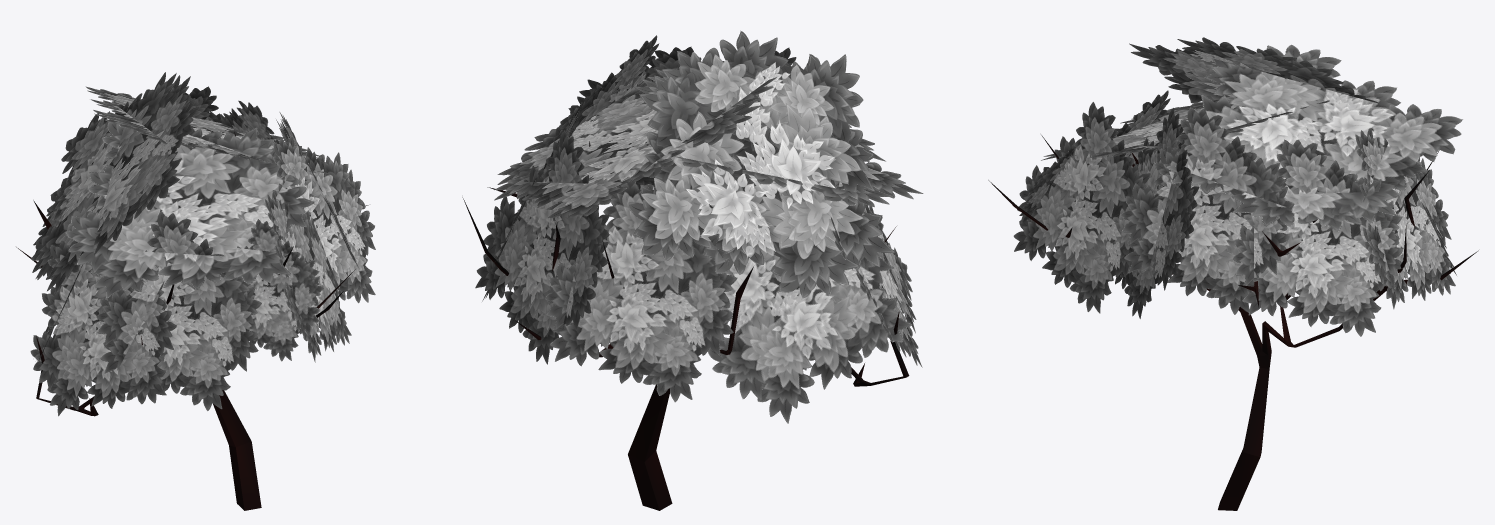
The model's file is TreeOptimizedNew_4.fbx.
3 views of the same model, side by side, from view 1: azimuth 30°, elevation 25°; view 2: azimuth 150°, elevation 25°; view 3: azimuth 270°, elevation 25° (orthographic). The views are drawn at different scales.
Visible parts, largest first — view 1: Cube.005; view 2: Cube.005; view 3: Cube.005.
Part boxes in pixels (<box>): Cube.005: <box>16,72,375,510</box>; Cube.005: <box>462,30,923,510</box>; Cube.005: <box>988,37,1478,510</box>.
Size of the model in its own units: 373 by 440 by 417.
